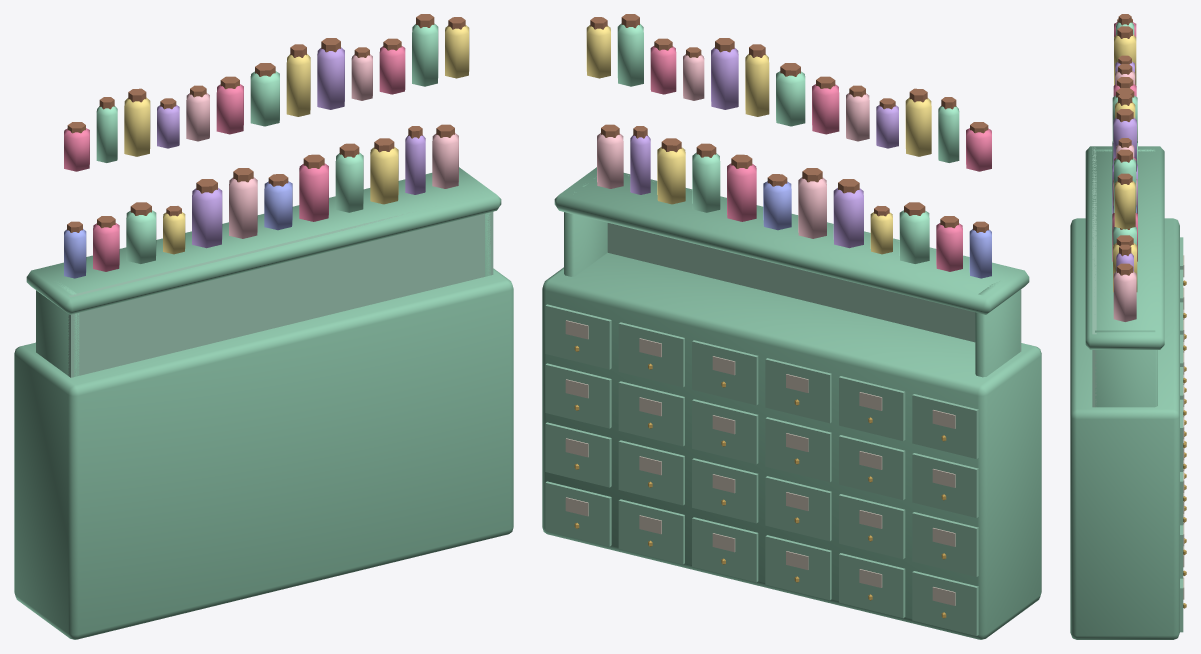
File: apothecary_cabinet.glb
The picture shows the model from 3 angles, left to right: view 1: azimuth 30°, elevation 25°; view 2: azimuth 150°, elevation 25°; view 3: azimuth 270°, elevation 25°; orthographic projection. The views are drawn at different scales.
Visible parts, largest first — view 1: apothecary_cabinet; view 2: apothecary_cabinet; view 3: apothecary_cabinet.
Part boxes in pixels (x1,y1,x2,y2): apothecary_cabinet: [14, 14, 513, 639]; apothecary_cabinet: [542, 14, 1041, 639]; apothecary_cabinet: [1070, 14, 1186, 639].
Size of what is drawn, in the model's own units: 2 by 2.2 by 0.5.
